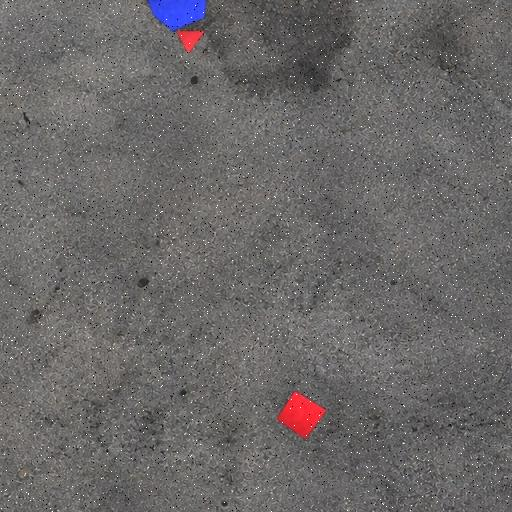RED_SQUARE: (276, 390, 327, 440)
